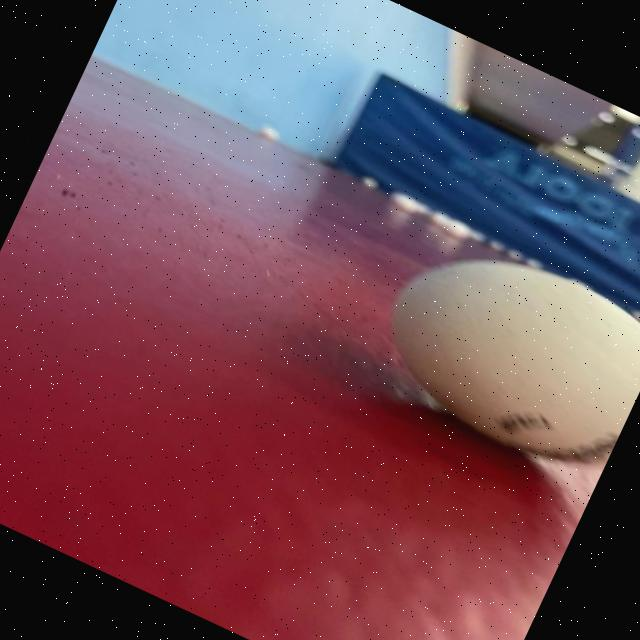ping-pong-ball: (339, 203, 640, 494)
